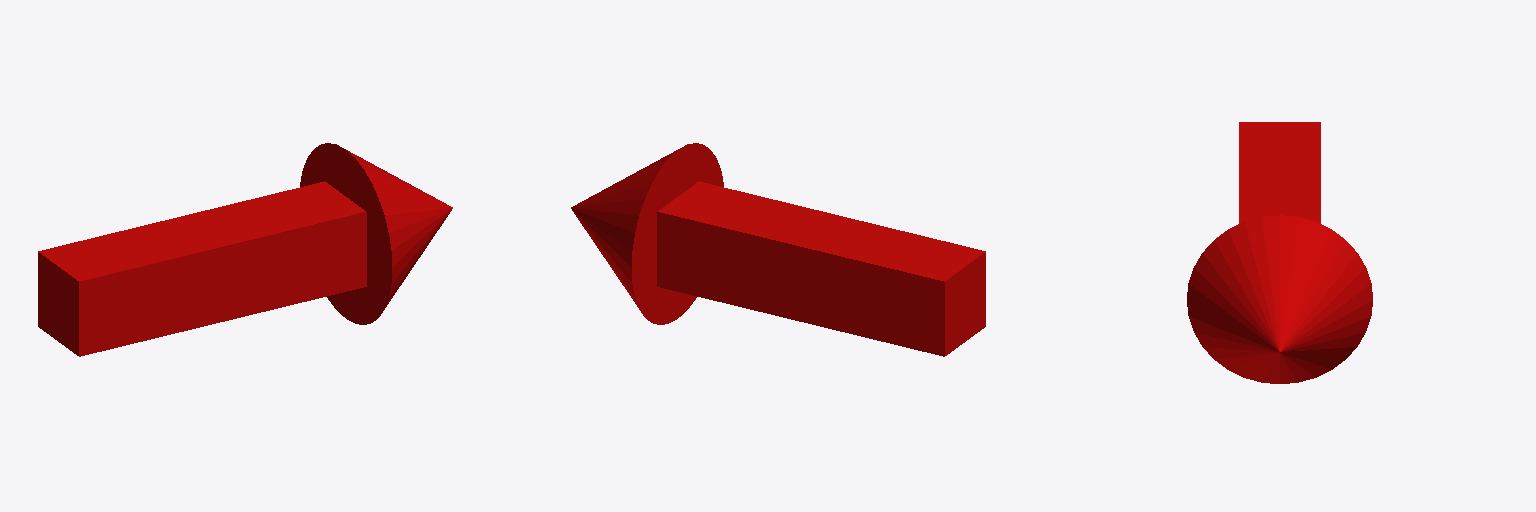
Rendered from X-Axis-Pointer.obj.
3 views of the same model, side by side, from view 1: azimuth 30°, elevation 25°; view 2: azimuth 150°, elevation 25°; view 3: azimuth 270°, elevation 25° (orthographic).
Visible parts, largest first — view 1: X-Axis-Pointer_Cube.002; view 2: X-Axis-Pointer_Cube.002; view 3: X-Axis-Pointer_Cube.002.
Part boxes in pixels (x1,y1,x2,y2): X-Axis-Pointer_Cube.002: (38, 143, 452, 356); X-Axis-Pointer_Cube.002: (571, 143, 985, 356); X-Axis-Pointer_Cube.002: (1187, 122, 1372, 383).
Bounding box in the file's own units: 2.75 × 1.12 × 1.12.